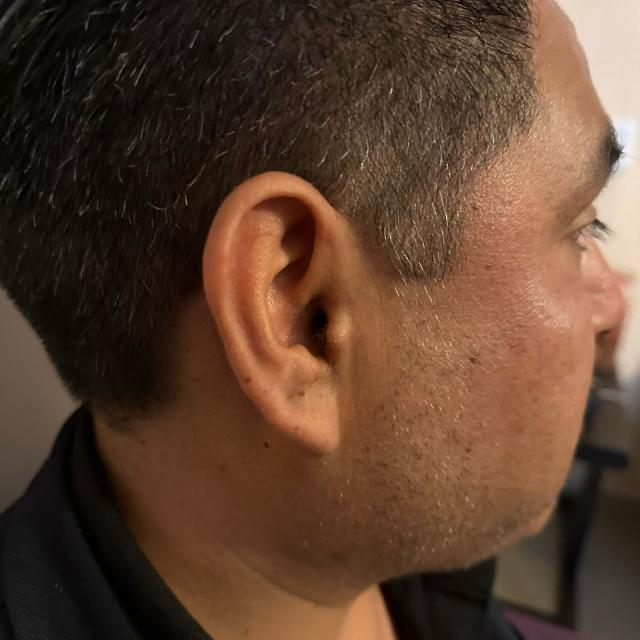ear: (202, 171, 348, 452)
